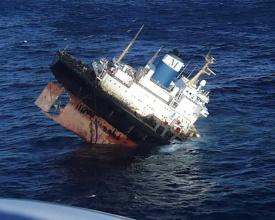otherboat: (35, 24, 216, 147)
